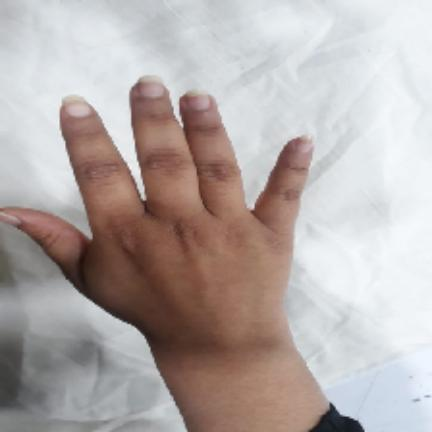Nail: (62, 95, 93, 118), (137, 76, 166, 98), (183, 90, 211, 110), (0, 211, 21, 227), (296, 135, 313, 153)
